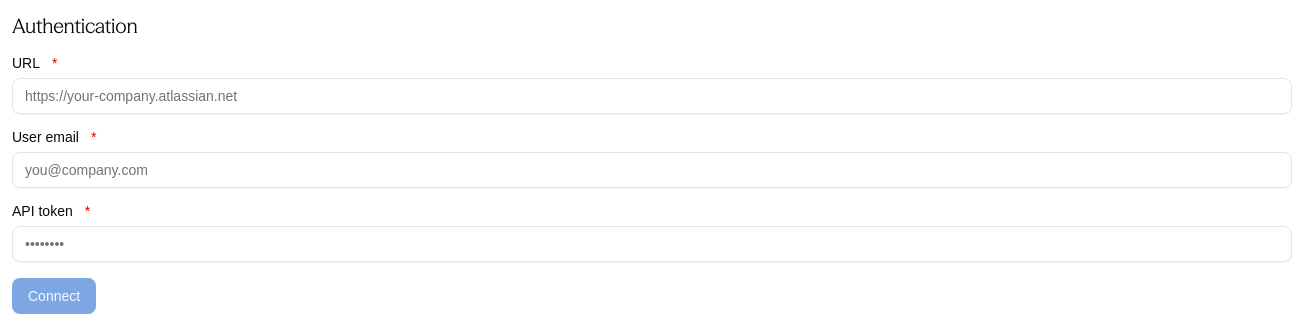
Test case: ConfluenceForm › Form Validation › should enable Connect button when all fields are valid
Type "https://company.atlassian.net" into the field labelled "URL *" at [652, 96], box top-left (12, 78), bottom-right (1292, 114)
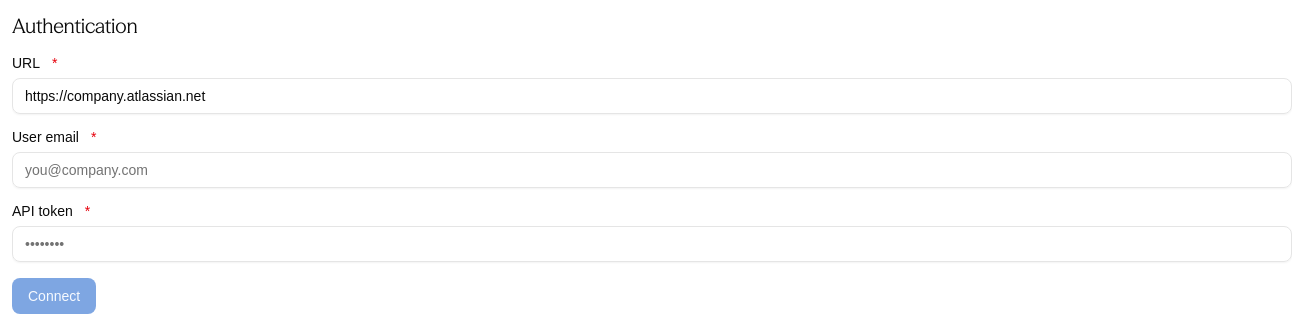
Type "user@company.com" into the field labelled "User email *" at [652, 170], box top-left (12, 152), bottom-right (1292, 188)
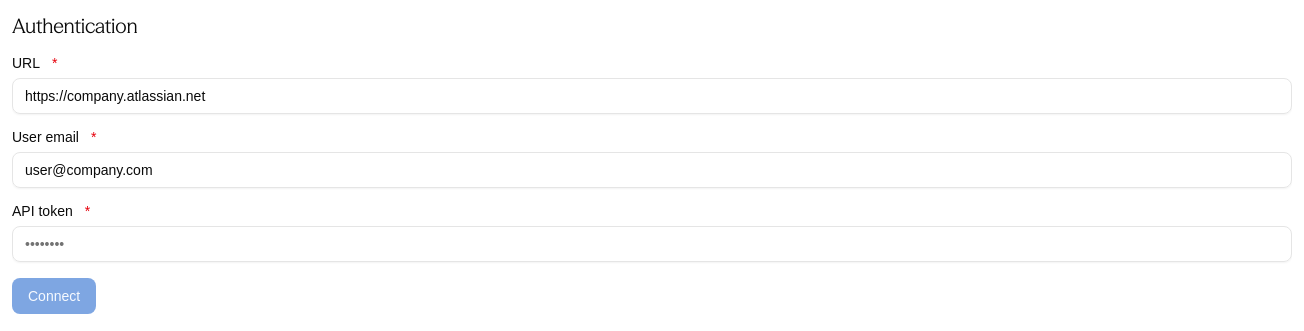
Type "secret-token" into the password field labelled "API token *" at [652, 244], box top-left (12, 226), bottom-right (1292, 262)
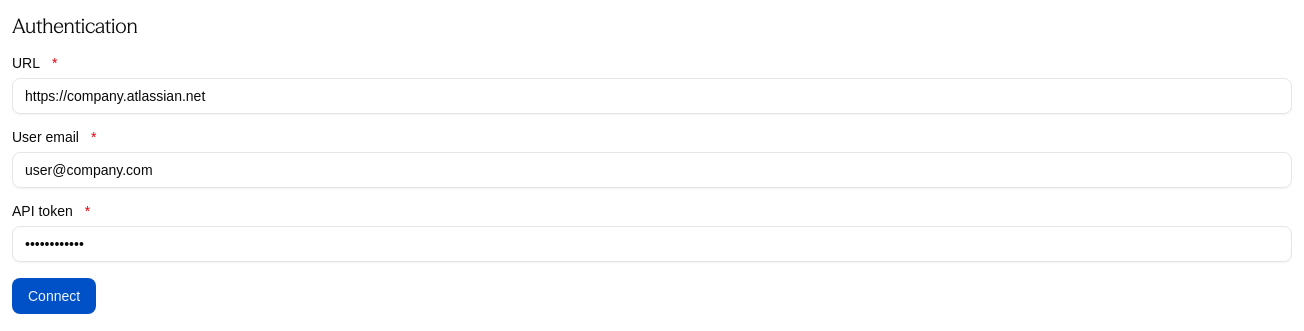
expect the button "Connect" is enabled: met, box top-left (12, 278), bottom-right (96, 314)
